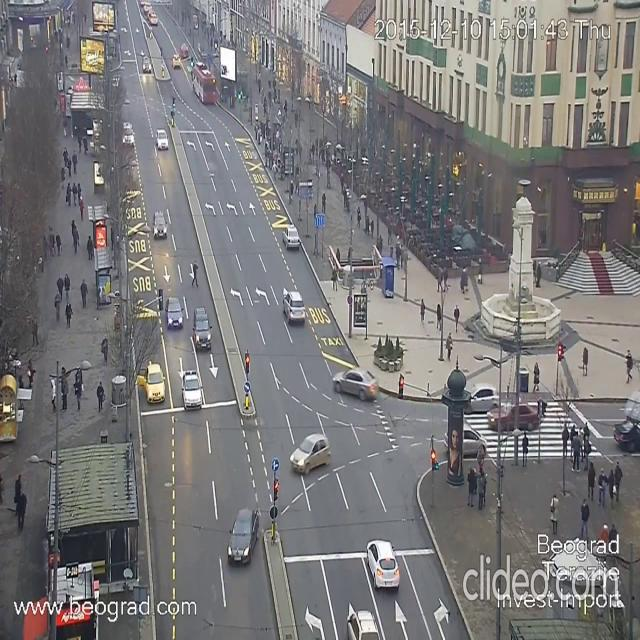bus: (191, 62, 214, 107)
car: (227, 508, 259, 566), (289, 432, 331, 475), (488, 397, 538, 433), (366, 540, 400, 590), (332, 367, 378, 402), (136, 360, 166, 404), (440, 428, 482, 456), (346, 609, 381, 639), (178, 368, 202, 410), (461, 383, 493, 413), (282, 287, 306, 325), (615, 416, 640, 452), (194, 305, 210, 349), (164, 296, 183, 329), (154, 208, 168, 236), (284, 228, 300, 246), (124, 121, 134, 148), (156, 126, 164, 150), (172, 54, 180, 73), (142, 55, 150, 71), (149, 12, 157, 24), (182, 43, 188, 57)
